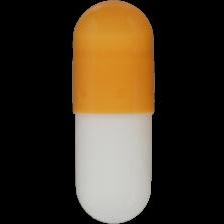69189-0818: (0, 0, 224, 224)
